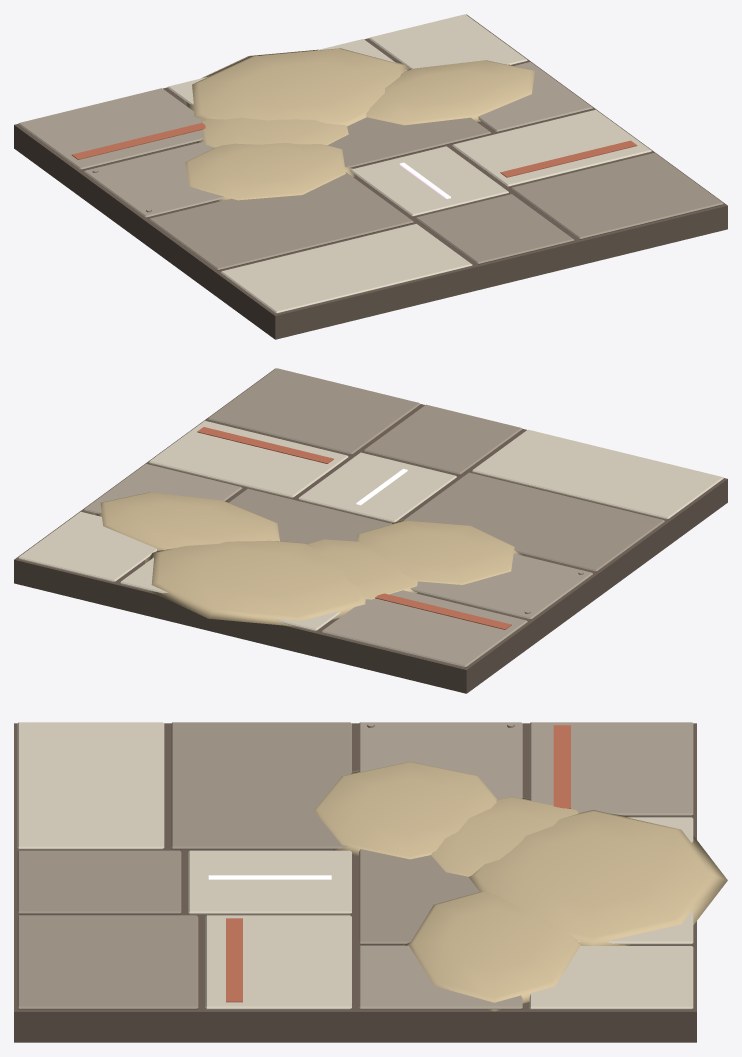
File: floor_du_plate2.glb
3 renders of one model, top to bottom at view 1: azimuth 30°, elevation 25°; view 2: azimuth 150°, elevation 25°; view 3: azimuth 270°, elevation 25°, orthographic. The views are drawn at different scales.
Visible parts, largest first — view 1: floor_du_plate2; view 2: floor_du_plate2; view 3: floor_du_plate2.
Boxes of the visible parts, x1,y1,x2,y2 form: floor_du_plate2: (14, 14, 727, 339); floor_du_plate2: (14, 368, 727, 693); floor_du_plate2: (14, 722, 727, 1042).
Size of the model in its own units: 4 by 0.2773 by 4.18.
